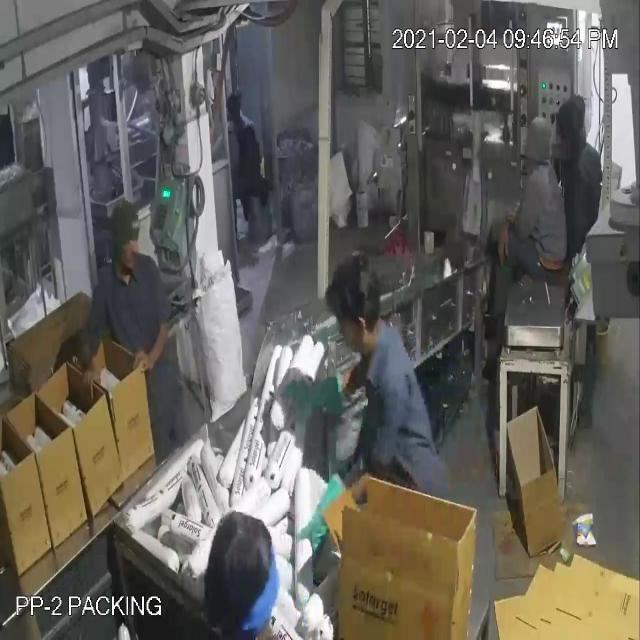No_Gloves: (23, 69, 327, 516)
